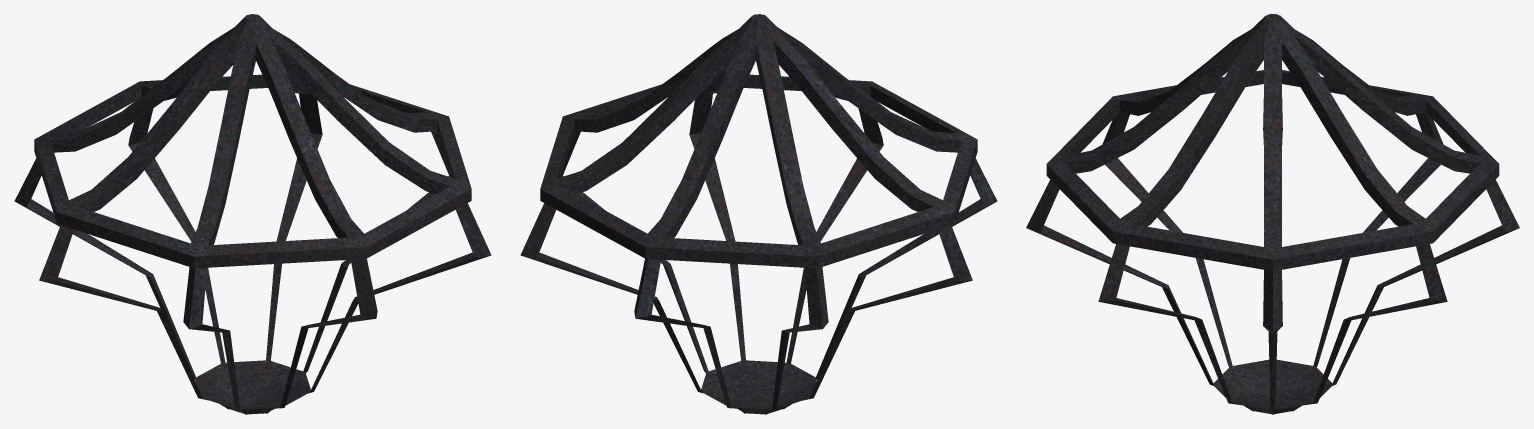
File: Lamparatecho.fbx
3 renders of one model, left to right at view 1: azimuth 30°, elevation 25°; view 2: azimuth 150°, elevation 25°; view 3: azimuth 270°, elevation 25°, orthographic.
Parts seen in each view (by area): view 1: LamparaTecho; view 2: LamparaTecho; view 3: LamparaTecho.
Boxes of the visible parts, x1,y1,x2,y2 form: LamparaTecho: (14, 14, 491, 414); LamparaTecho: (520, 14, 997, 414); LamparaTecho: (1026, 14, 1519, 414).
Size of the model in its own units: 218 by 188 by 218.
